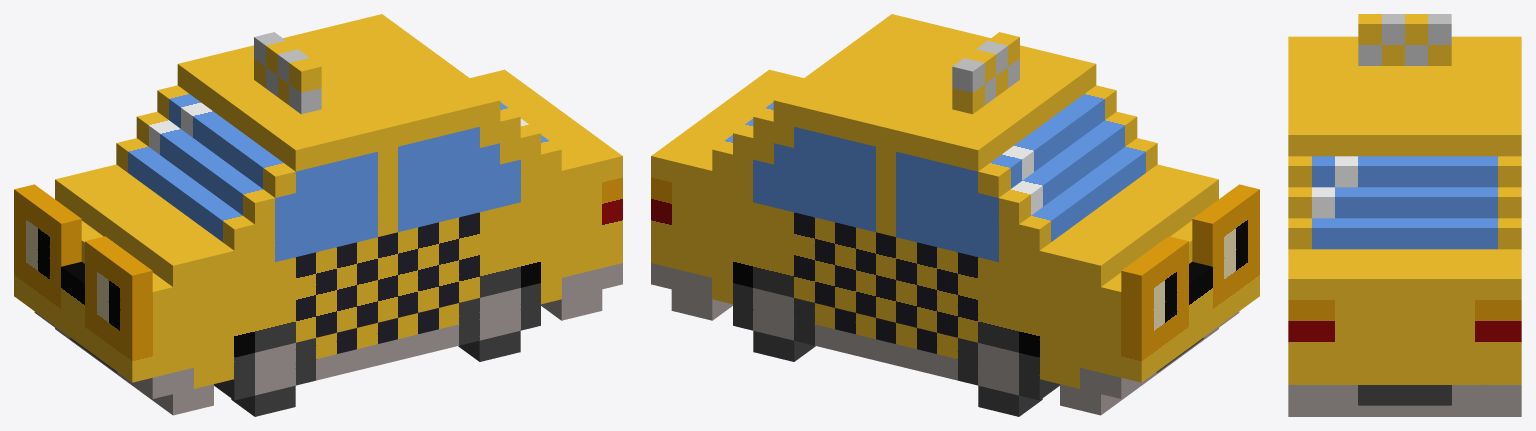
File: taxi.glb
3 views of the same model, side by side, from view 1: azimuth 30°, elevation 25°; view 2: azimuth 150°, elevation 25°; view 3: azimuth 270°, elevation 25° (orthographic).
Visible parts, largest first — view 1: Oren_1113; view 2: Oren_1113; view 3: Oren_1113.
Boxes of the visible parts, x1,y1,x2,y2 form: Oren_1113: [14, 14, 622, 416]; Oren_1113: [651, 14, 1259, 416]; Oren_1113: [1288, 14, 1521, 416].
Bounding box in the file's own units: 0.24 × 0.14 × 0.1.
1 material, 1 textured.
